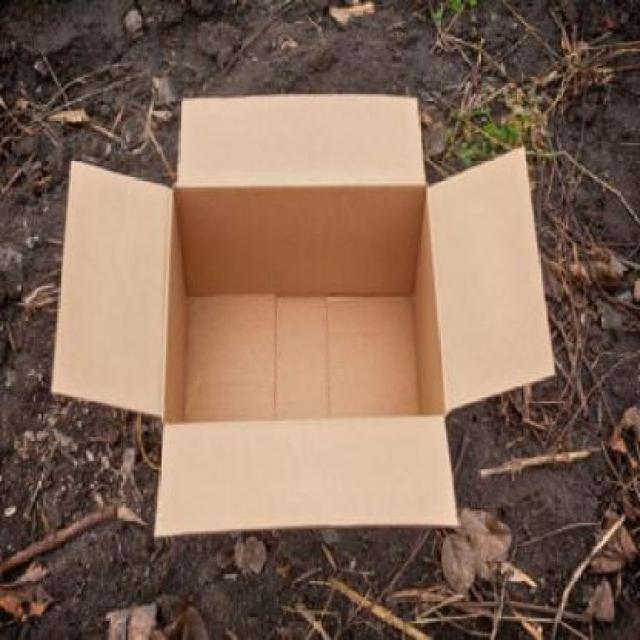box: (65, 99, 532, 533)
